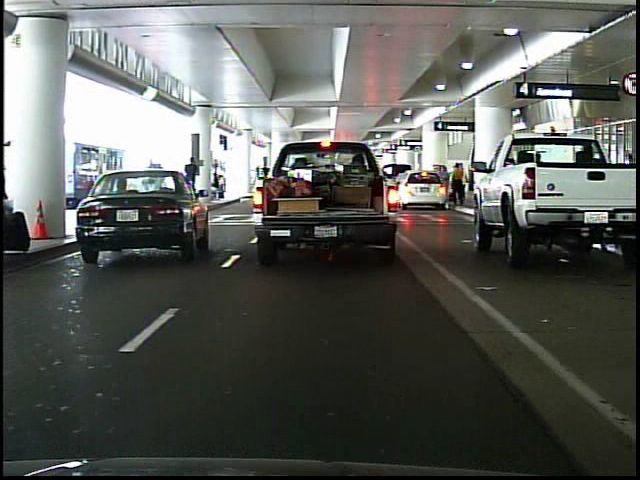person: (182, 153, 203, 211)
